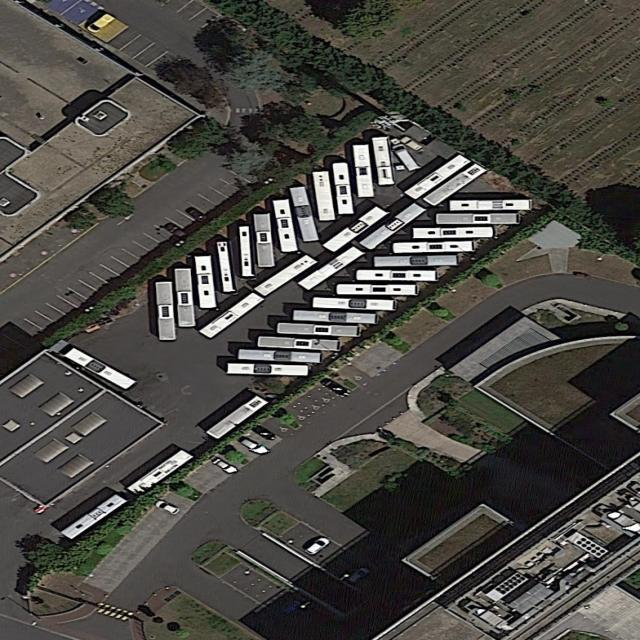large-vehicle: (358, 203, 429, 251), (64, 347, 138, 390), (59, 494, 128, 540), (198, 292, 265, 339), (322, 206, 389, 253), (127, 450, 195, 496), (298, 246, 366, 291), (405, 155, 472, 200), (205, 394, 269, 440), (253, 254, 319, 297), (421, 163, 487, 206), (291, 187, 321, 242), (273, 199, 299, 253), (175, 268, 197, 328), (332, 162, 357, 214), (193, 256, 218, 308), (371, 136, 397, 186), (277, 322, 363, 337), (258, 336, 343, 351), (155, 282, 176, 342), (294, 310, 377, 325), (238, 348, 321, 363), (314, 296, 396, 311), (227, 362, 309, 377), (353, 145, 376, 198), (313, 172, 337, 221), (254, 213, 275, 267), (414, 226, 494, 240), (394, 241, 475, 254), (216, 241, 236, 293), (376, 256, 458, 268), (337, 283, 418, 295), (357, 270, 438, 282), (437, 214, 521, 225), (238, 226, 256, 277), (450, 200, 533, 211)
small-vehicle: (390, 144, 423, 172), (318, 377, 353, 398), (86, 13, 117, 34), (304, 536, 333, 557), (238, 438, 271, 456), (252, 424, 280, 443), (211, 458, 240, 476), (345, 566, 373, 584), (152, 500, 180, 516), (162, 223, 189, 239), (185, 207, 210, 224), (398, 136, 424, 152), (281, 599, 304, 615)
